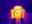Hotspot: (10, 6, 26, 19)
